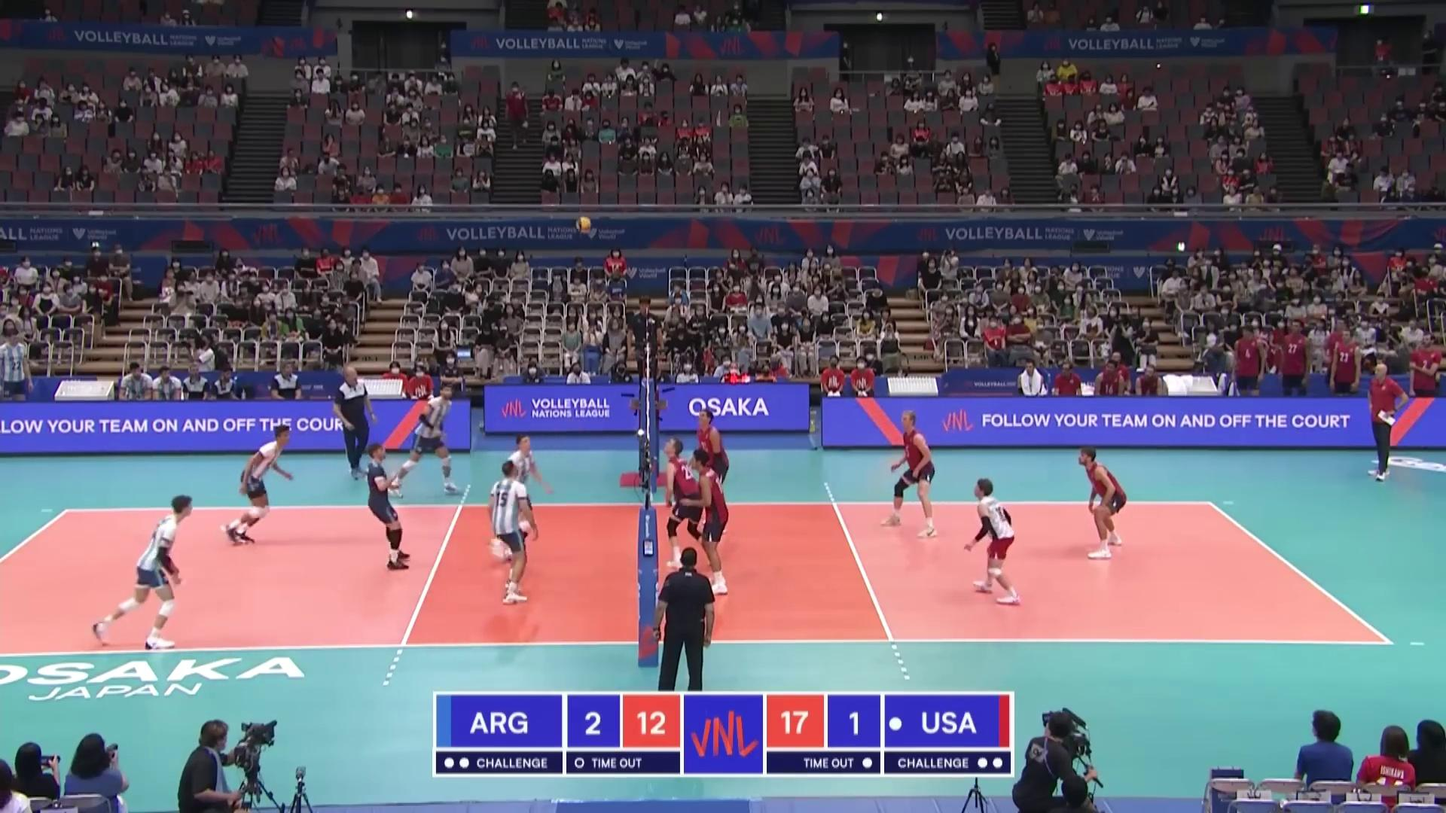player: (93, 495, 194, 648), (388, 385, 462, 497), (224, 424, 291, 545), (964, 477, 1021, 606), (660, 439, 717, 567), (882, 412, 936, 538), (492, 460, 537, 606), (687, 450, 729, 594), (1075, 446, 1128, 560), (364, 443, 411, 571), (494, 436, 539, 553), (694, 408, 731, 537)
refree: (651, 550, 717, 692), (631, 296, 662, 401)
